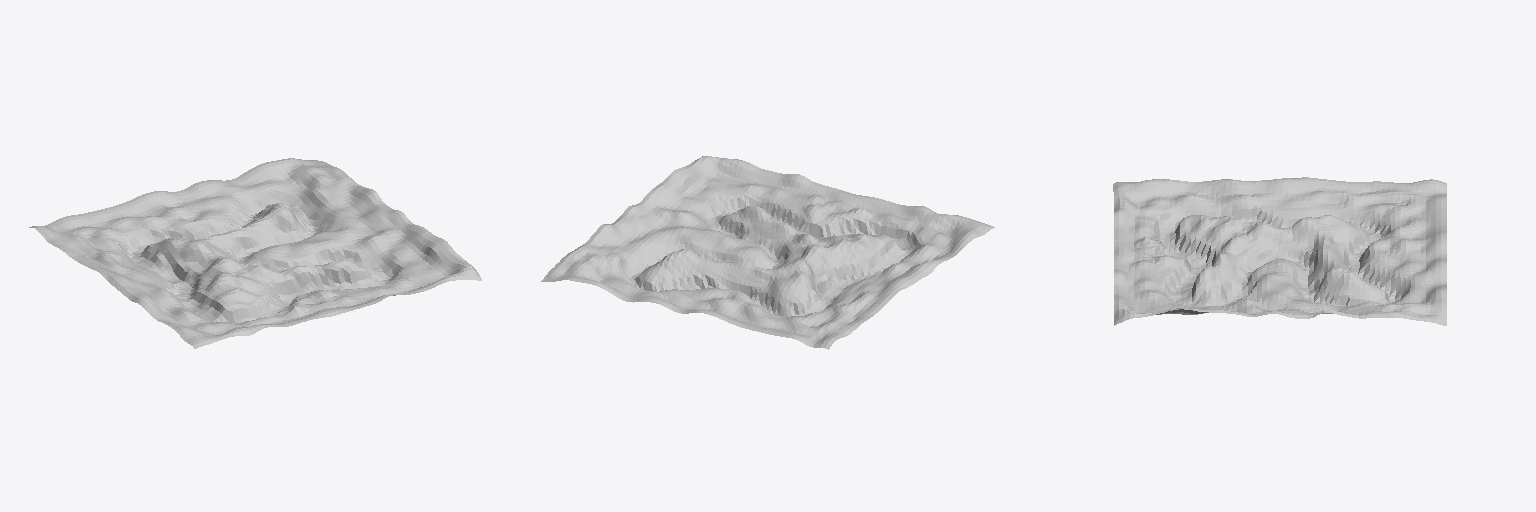
File: desertTerrain.obj
3 views of the same model, side by side, from view 1: azimuth 30°, elevation 25°; view 2: azimuth 150°, elevation 25°; view 3: azimuth 270°, elevation 25° (orthographic).
Parts seen in each view (by area): view 1: Plane; view 2: Plane; view 3: Plane.
Boxes of the visible parts, <box> form: Plane: <box>29,158,481,348</box>; Plane: <box>541,156,994,349</box>; Plane: <box>1113,177,1446,325</box>.
Size of the model in its own units: 1001 by 104 by 1002.